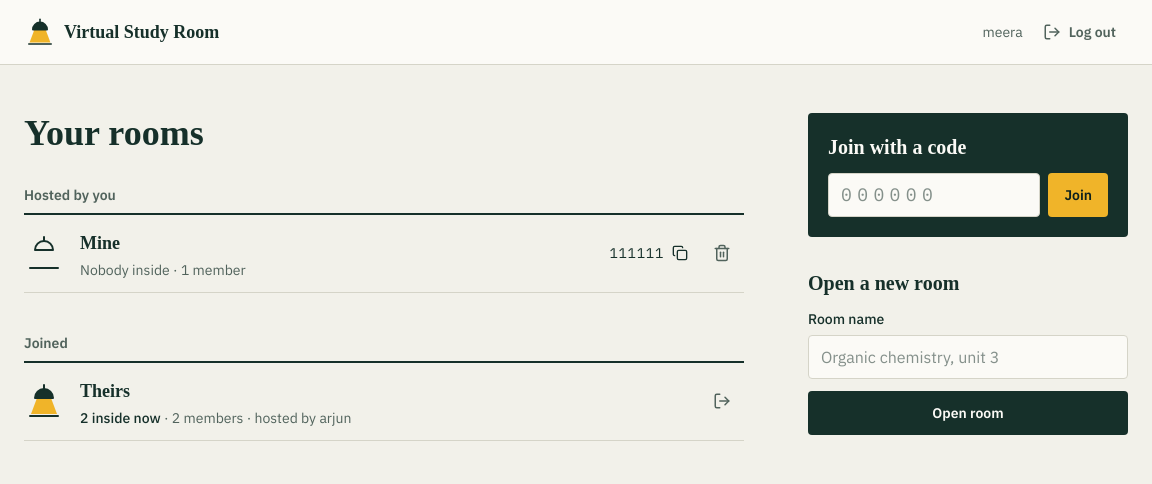
shows why joining failed
In the field labelled "Join with a code": point(934, 195) [828,173,1040,217], type "999999"
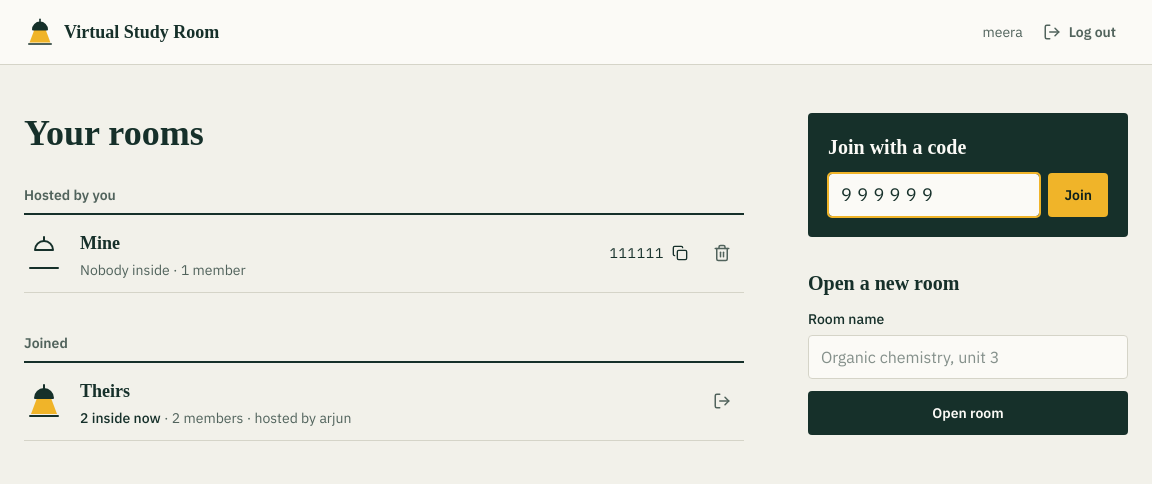
Click the button "Join": point(1078, 195) [1048,173,1108,217]
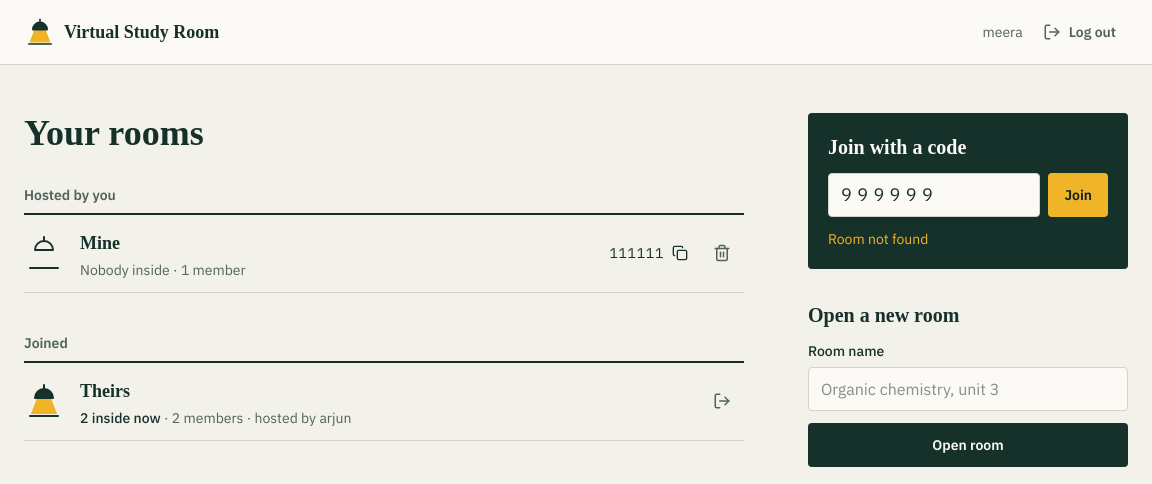
expect the message reads "Room not found": met, box [828,230,928,248]
